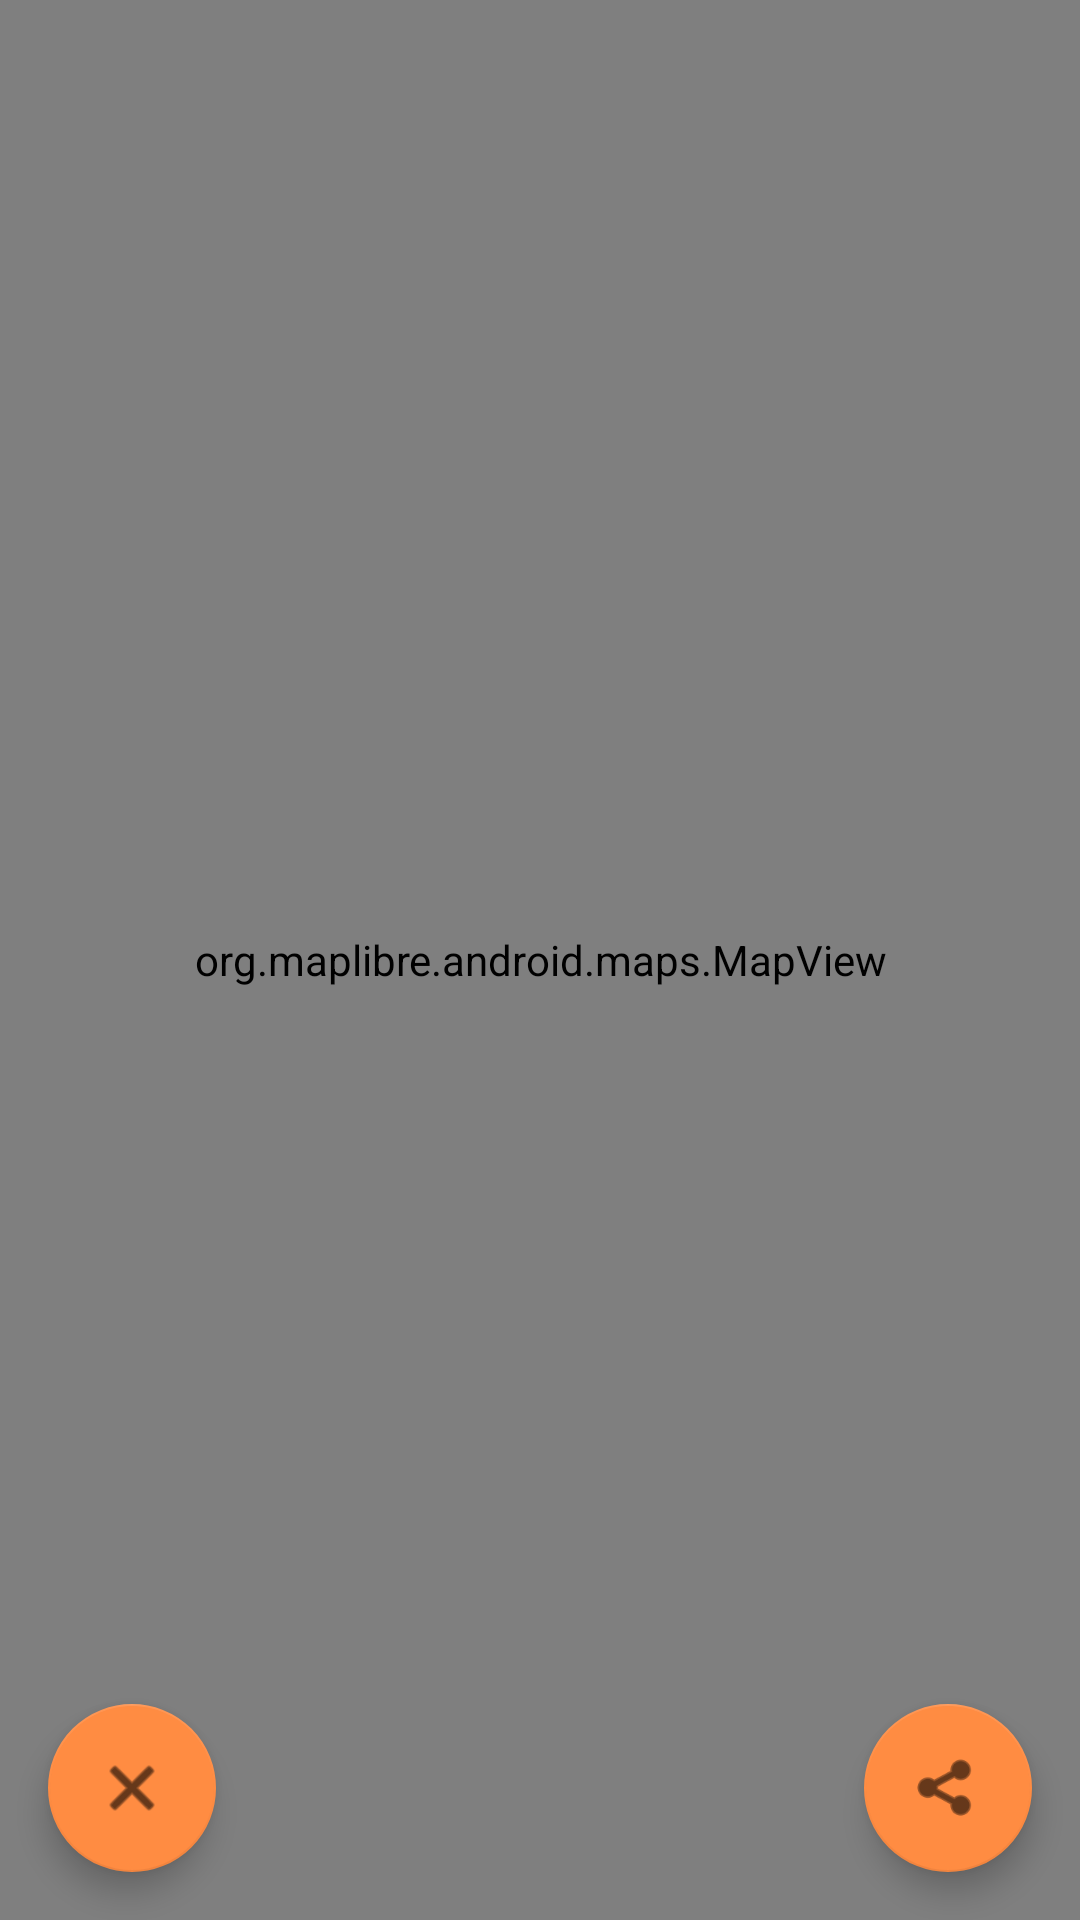

Icons on this 1080 x 1920 Android screen, each with the point to tap as [x,y]:
Condividi posizione: [948,1788]
